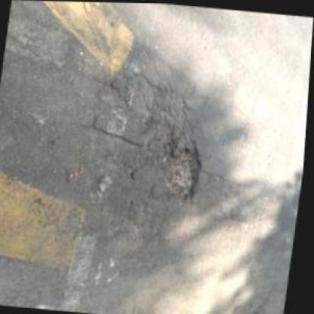Hueco: (159, 138, 208, 208), (139, 118, 181, 164), (92, 80, 131, 111)
